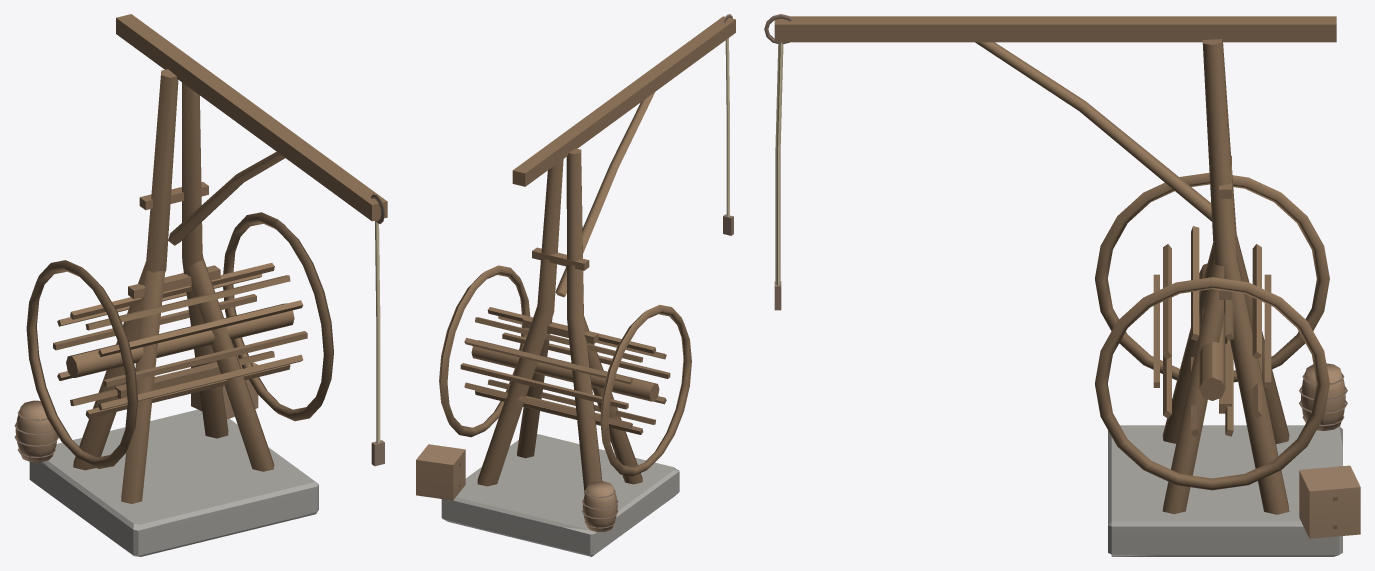
File: kran.glb
3 views of the same model, side by side, from view 1: azimuth 30°, elevation 25°; view 2: azimuth 150°, elevation 25°; view 3: azimuth 270°, elevation 25° (orthographic). The views are drawn at different scales.
Visible parts, largest first — view 1: G_kran; view 2: G_kran; view 3: G_kran.
Boxes of the visible parts, left/top/right/bottom form: G_kran: left=14, top=14, right=387, bottom=556; G_kran: left=416, top=14, right=735, bottom=556; G_kran: left=764, top=14, right=1360, bottom=556.
Bounding box in the file's own units: 4.55 × 8.36 × 9.13.
